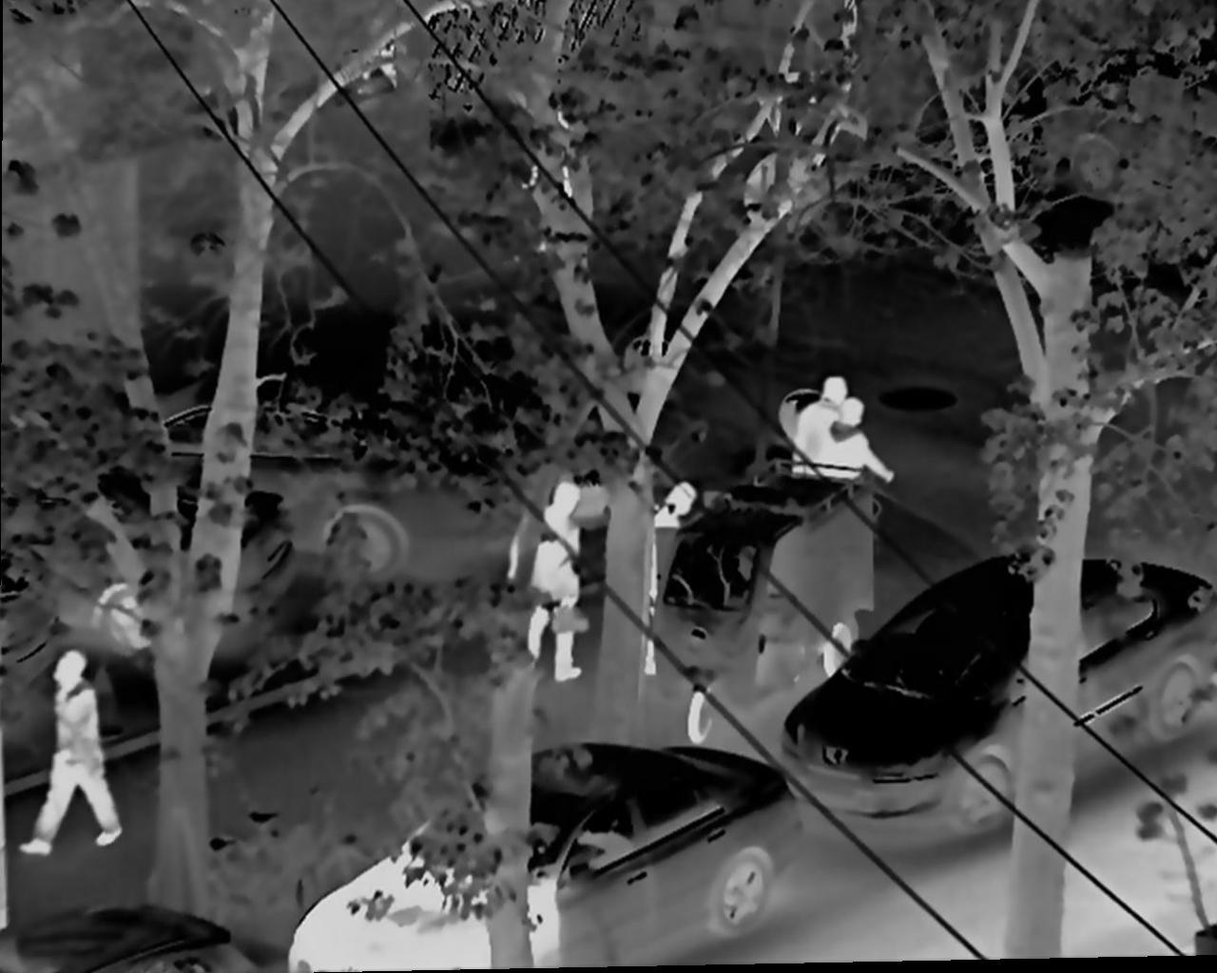person: (17, 651, 137, 861), (516, 462, 588, 696), (631, 470, 694, 696), (828, 395, 905, 565), (778, 367, 849, 506)
